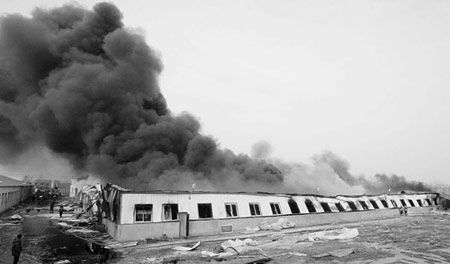smoke: (1, 4, 291, 191)
